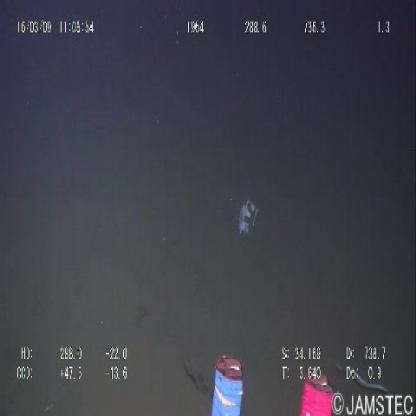Bio: (333, 357, 391, 396)
Rov: (208, 348, 336, 416)
Rác: (232, 193, 266, 251)
